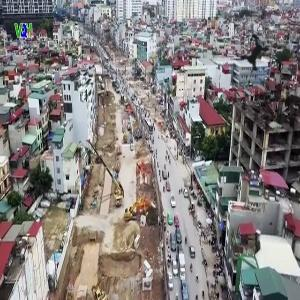drone: (215, 13, 294, 92)
